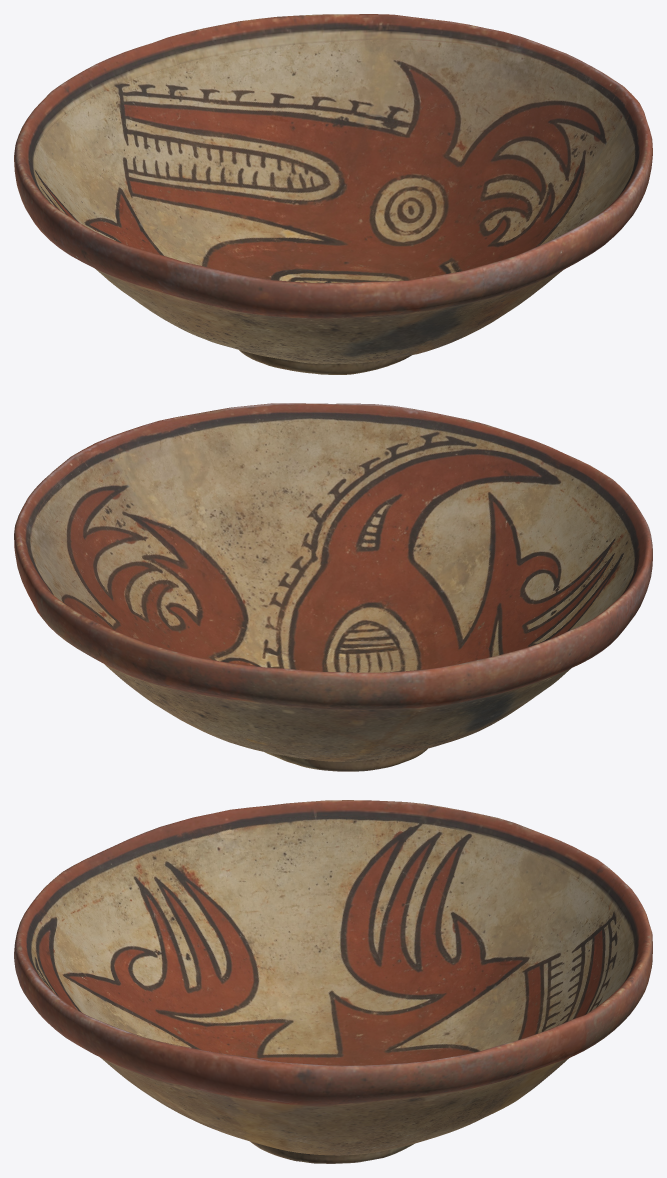
File: plato_con_base_anular.fbx
3 views of the same model, one above another, from view 1: azimuth 30°, elevation 25°; view 2: azimuth 150°, elevation 25°; view 3: azimuth 270°, elevation 25° (orthographic).
Parts seen in each view (by area): view 1: Object_2; view 2: Object_2; view 3: Object_2.
Part boxes in pixels (bbox=[...]): Object_2: bbox=[14, 14, 652, 374]; Object_2: bbox=[14, 403, 652, 771]; Object_2: bbox=[14, 800, 652, 1163].
Size of the model in its own units: 19.16 by 6.44 by 18.81.
1 material, 1 textured.
